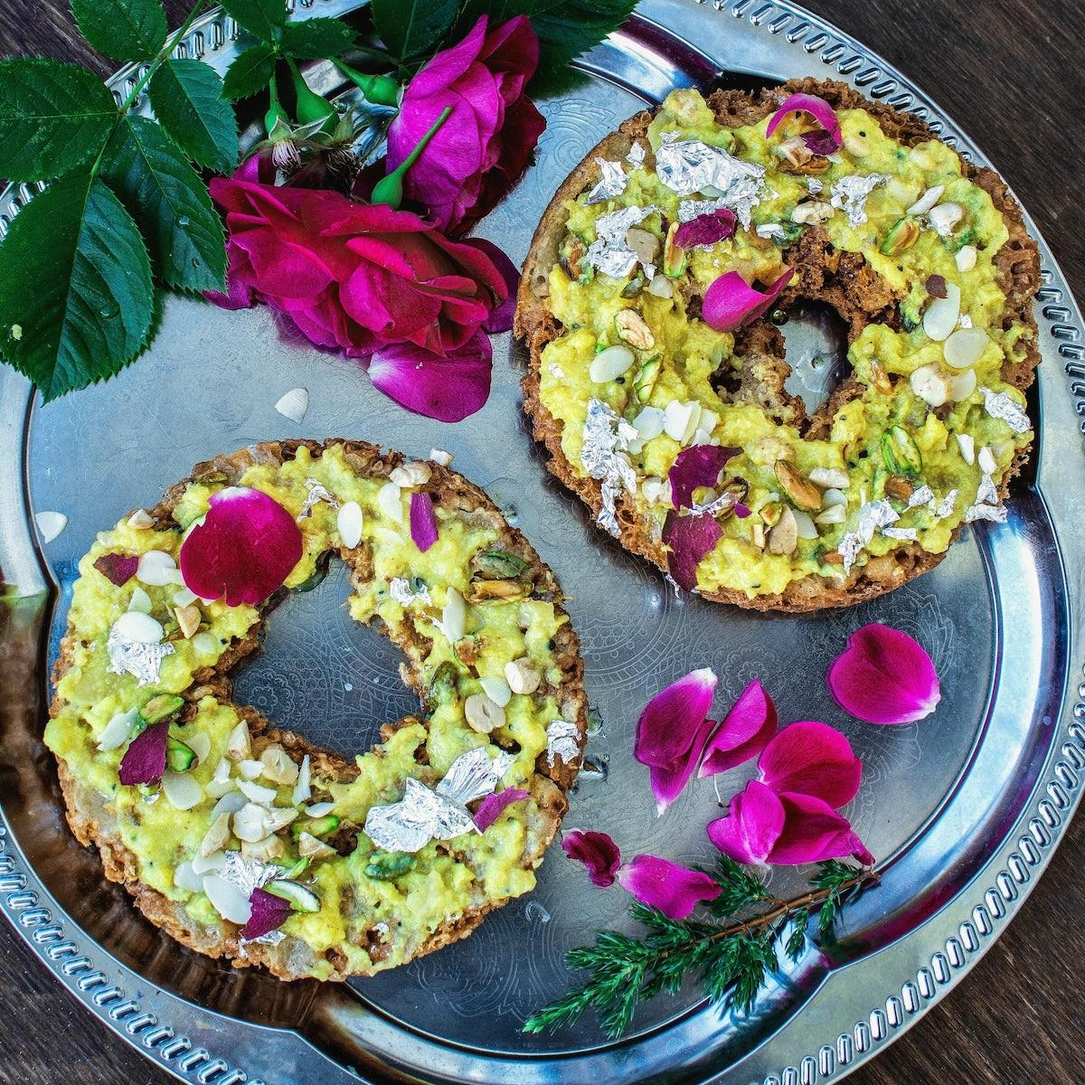Ghevar: (41, 435, 591, 986), (513, 73, 1043, 603)
